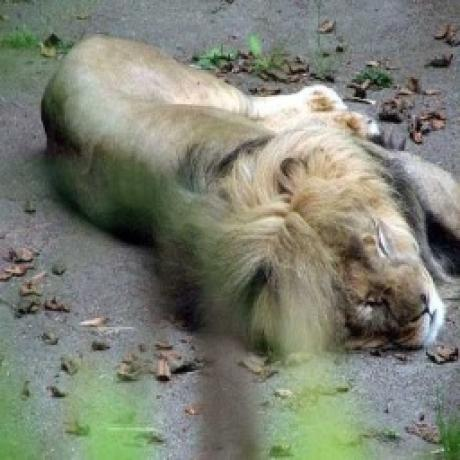Lion: (39, 27, 460, 354)
